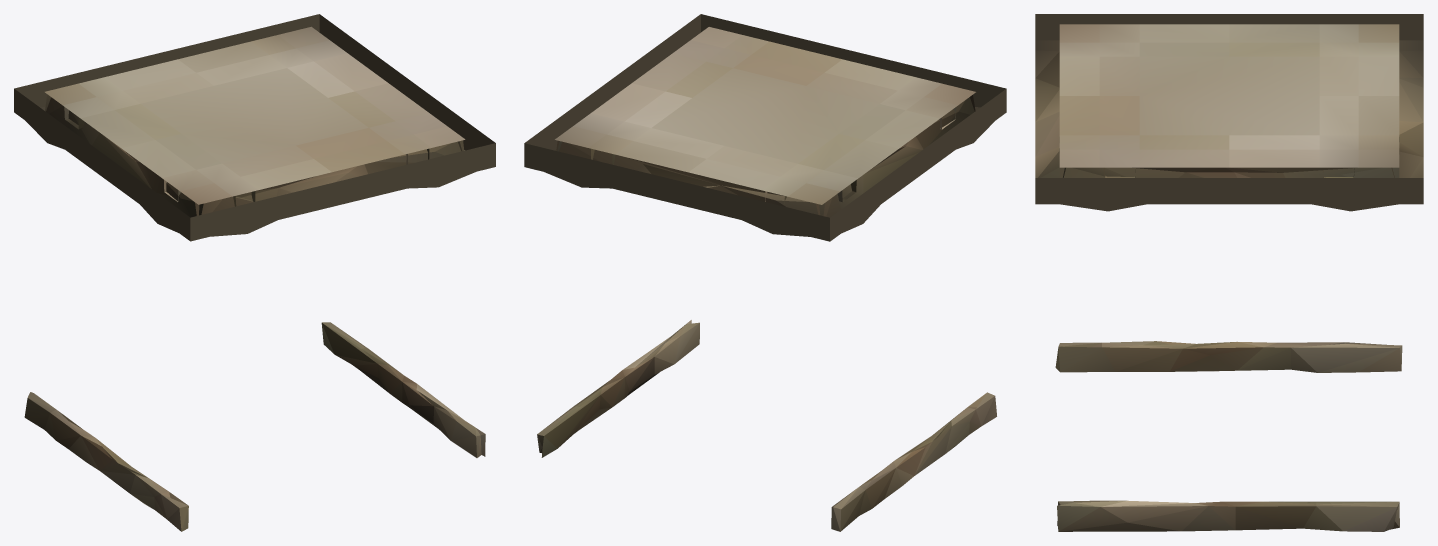
File: Base_UG-2WayStraight.fbx
3 views of the same model, side by side, from view 1: azimuth 30°, elevation 25°; view 2: azimuth 150°, elevation 25°; view 3: azimuth 270°, elevation 25° (orthographic). The views are drawn at different scales.
Parts seen in each view (by area): view 1: Base_UG-2WayStraight; view 2: Base_UG-2WayStraight; view 3: Base_UG-2WayStraight.
Part boxes in pixels (x1,y1,x2,y2): Base_UG-2WayStraight: (14, 14, 495, 531); Base_UG-2WayStraight: (524, 14, 1006, 531); Base_UG-2WayStraight: (1035, 14, 1423, 531).
Bounding box in the file's own units: 401 × 404 × 400.
